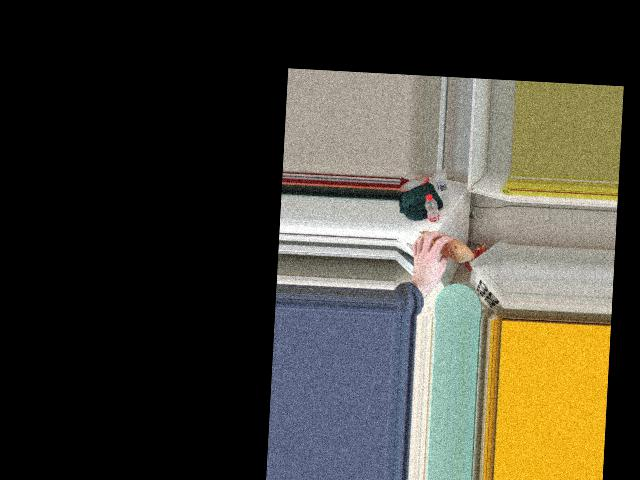sweet_potato: (416, 230, 470, 258)
